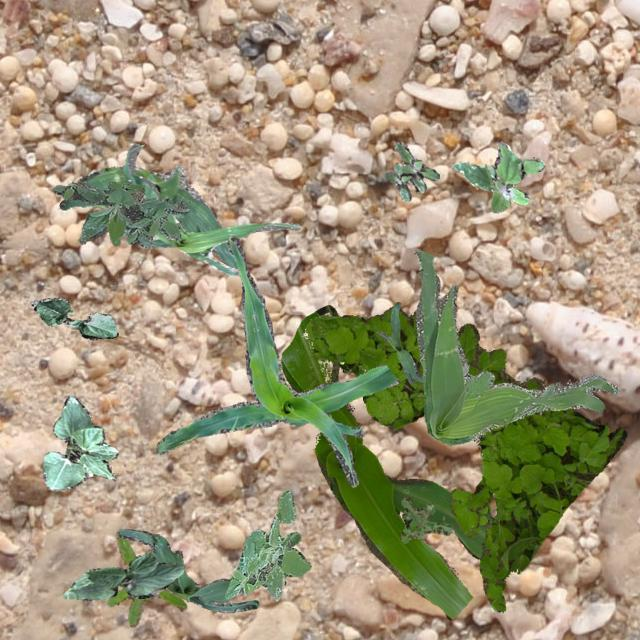crop: (281, 304, 488, 618), (156, 234, 398, 486), (122, 143, 300, 274), (58, 165, 236, 268), (118, 528, 258, 612), (42, 394, 116, 491), (61, 550, 182, 598), (376, 300, 422, 382), (31, 296, 118, 338)
weed: (304, 306, 626, 572), (414, 248, 618, 444), (224, 490, 310, 600), (53, 180, 187, 248), (106, 532, 186, 626), (449, 488, 508, 612), (452, 140, 544, 212), (382, 140, 438, 200), (401, 496, 452, 542)
